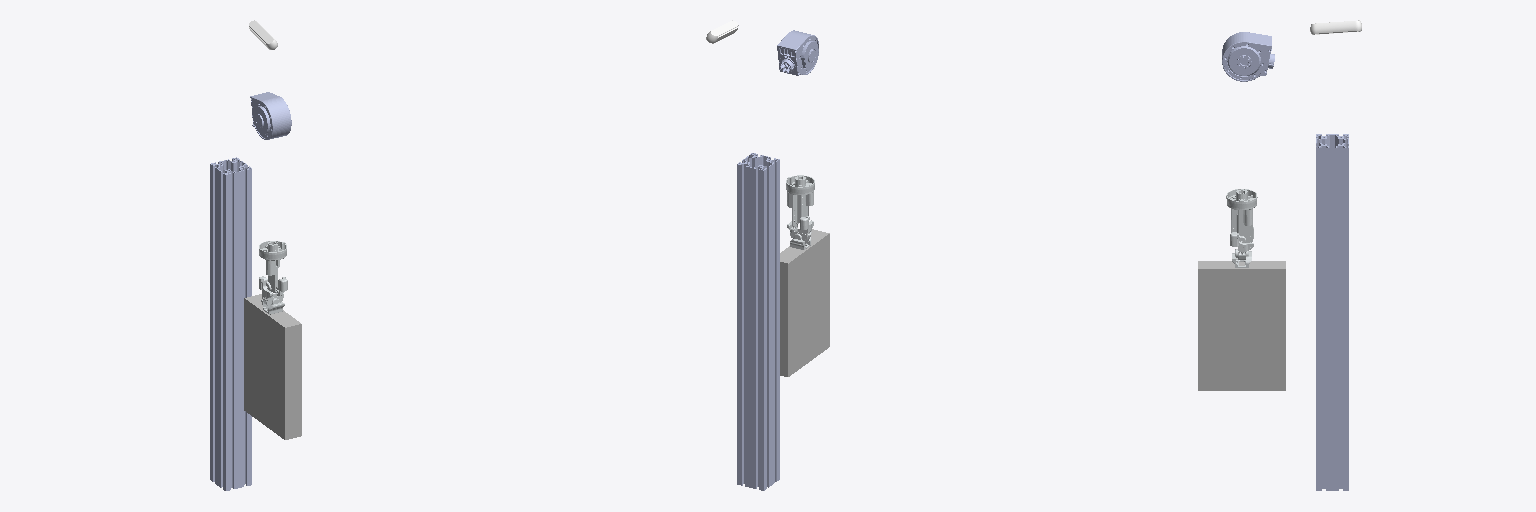
The robot description file, URDF, robot "the_bust2_right_arm":
<?xml version="1.0" encoding="utf-8"?>
<!-- This URDF was automatically created by SolidWorks to URDF Exporter! Originally created by [author] ([email redacted])
     Commit Version: 1.6.0-4-g7f85cfe  Build Version: 1.6.7995.38578
     For more information, please see http://wiki.ros.org/sw_urdf_exporter -->
<robot
  name="the_bust2_right_arm">
  <link name="world_base"/>
  <joint name="world_shift" type="fixed">
    <origin xyz="0 0 0" rpy="0 0 1.57" />
    <parent link="world_base" />
    <child link="link0" />
    <axis xyz="0 0 1" />
  </joint>
  <link
    name="link0">
    <inertial>
      <origin
        xyz="-0.080255 -0.75157 -0.00014821"
        rpy="0 0 0" />
      <mass
        value="9.7839" />
      <inertia
        ixx="0.20727"
        ixy="-3.2824E-05"
        ixz="-1.1214E-06"
        iyy="0.28988"
        iyz="-9.4868E-05"
        izz="0.29461" />
    </inertial>
    <visual>
      <origin
        xyz="0 0 0"
        rpy="0 0 0" />
      <geometry>
        <mesh
          filename="../assets/the_bust2/BODY_with_cover.obj" />
      </geometry>
      <material
        name="">
        <color
          rgba="0.79216 0.81961 0.93333 1" />
      </material>
    </visual>
    <collision>
      <origin
        xyz="0 0 0"
        rpy="0 0 0" />
      <geometry>
        <mesh
          filename="../assets/the_bust2/BODY_with_cover.obj" />
      </geometry>
    </collision>
  </link>

  <joint name="joint0_pillar" type="fixed">
    <origin xyz="0 0 0" rpy="0 0 0" />
    <parent link="link0" />
    <child link="link0_pillar" />
    <axis xyz="0 0 1" />
  </joint>
  <link
    name="link0_pillar">
    <inertial>
      <origin
        xyz="0 0 0"
        rpy="0 0 0" />
      <mass
        value="9.7839" />
      <inertia
        ixx="0.20727"
        ixy="-3.2824E-05"
        ixz="-1.1214E-06"
        iyy="0.28988"
        iyz="-9.4868E-05"
        izz="0.29461" />
    </inertial>
    <visual>
      <origin
        xyz="0 0 0"
        rpy="0 0 0" />
      <geometry>
        <mesh
          filename="../assets/the_bust2/BODY_PILLAR_with_cover.obj" />
      </geometry>
      <material
        name="">
        <color
          rgba="0.79216 0.81961 0.93333 1" />
      </material>
    </visual>
    <collision>
      <origin
        xyz="0 0 0"
        rpy="0 0 0" />
      <geometry>
        <mesh
          filename="../assets/the_bust2/BODY_PILLAR_with_cover.obj" />
      </geometry>
    </collision>
  </link>

  <link
    name="link1">
    <inertial>
      <origin
        xyz="-0.058646 0.010623 -0.0013946"
        rpy="0 0 0" />
      <mass
        value="0.90109" />
      <inertia
        ixx="0.00071734"
        ixy="-4.067E-06"
        ixz="-2.2324E-06"
        iyy="0.00071668"
        iyz="3.4643E-07"
        izz="0.00099893" />
    </inertial>
    <visual>
      <origin
        xyz="0 0 0"
        rpy="0 0 0" />
      <geometry>
        <mesh
          filename="../assets/the_bust2/SHOULDER_1_with_cover.obj" />
      </geometry>
      <material
        name="">
        <color
          rgba="0.79216 0.81961 0.93333 1" />
      </material>
    </visual>
    <collision>
      <origin
        xyz="0 0 0"
        rpy="0 0 0" />
      <geometry>
        <mesh
          filename="../assets/the_bust2/SHOULDER_1_with_cover.obj" />
      </geometry>
    </collision>
  </link>
  <joint
    name="joint1"
    type="revolute">
    <origin
      xyz="-0.14964 0 0.060725"
      rpy="1.5708 0 0" />
    <parent
      link="link0" />
    <child
      link="link1" />
    <axis
      xyz="-0.98481 0.17365 0" />
    <limit effort="87" lower="-3.142" upper="3.142" velocity="2.0"/>
  </joint>
  <link
    name="link2">
    <inertial>
      <origin
        xyz="-0.00535772591526545 -0.0793139517046481 -9.23922563859696E-06"
        rpy="0 0 0" />
      <mass
        value="0.649472174212296" />
      <inertia
        ixx="0.000372167174448577"
        ixy="-5.67559650733523E-07"
        ixz="1.11598896451532E-07"
        iyy="0.000429826310385547"
        iyz="4.2959102078216E-07"
        izz="0.000400174040241547" />
    </inertial>
    <visual>
      <origin
        xyz="0 0 0"
        rpy="0 0 0" />
      <geometry>
        <mesh
          filename="../assets/the_bust2/SHOULDER_2_with_cover.obj" />
      </geometry>
      <material
        name="">
        <color
          rgba="0.792156862745098 0.819607843137255 0.933333333333333 1" />
      </material>
    </visual>
    <collision>
      <origin
        xyz="0 0 0"
        rpy="0 0 0" />
      <geometry>
        <mesh
          filename="../assets/the_bust2/SHOULDER_2_with_cover.obj" />
      </geometry>
    </collision>
  </link>
  <joint
    name="joint2"
    type="revolute">
    <origin
      xyz="-0.060083 0.010594 0"
      rpy="0 0 0" />
    <parent
      link="link1" />
    <child
      link="link2" />
    <axis
      xyz="0 0 -1" />
    <limit effort="87" lower="-0.1" upper="3.142" velocity="2.0"/>
  </joint>
  <link
    name="link3">
    <inertial>
      <origin
        xyz="-0.000355282485146768 -0.00124933319201412 -0.0762484667452232"
        rpy="0 0 0" />
      <mass
        value="0.098196868702324" />
      <inertia
        ixx="0.000130311751597374"
        ixy="-4.63732473212988E-07"
        ixz="4.14973236884063E-07"
        iyy="0.000122852441640541"
        iyz="6.68222480742808E-06"
        izz="5.20498909664746E-05" />
    </inertial>
    <visual>
      <origin
        xyz="0 0 0"
        rpy="0 0 0" />
      <geometry>
        <mesh
          filename="../assets/the_bust2/ARM_1_with_cover.obj" />
      </geometry>
      <material
        name="">
        <color
          rgba="0.866666666666667 0.866666666666667 0.890196078431372 1" />
      </material>
    </visual>
    <collision>
      <origin
        xyz="0 0 0"
        rpy="0 0 0" />
      <geometry>
        <mesh
          filename="../assets/the_bust2/ARM_1_with_cover.obj" />
      </geometry>
    </collision>
  </link>
  <joint
    name="joint3"
    type="revolute">
    <origin
      xyz="-0.0055 -0.113 0"
      rpy="1.5708 -0.062021 3.1416" />
    <parent
      link="link2" />
    <child
      link="link3" />
    <axis
      xyz="0 0 -1" />
    <limit effort="87" lower="-3.142" upper="3.142" velocity="2.0"/>
  </joint>
  <link
    name="link4">
    <inertial>
      <origin
        xyz="0.000320113590613069 -0.0582629274686154 0.000795425891252129"
        rpy="0 0 0" />
      <mass
        value="0.0953973399101085" />
      <inertia
        ixx="6.58987096231067E-05"
        ixy="2.45738434072835E-09"
        ixz="4.68028555793376E-08"
        iyy="6.82790255692881E-05"
        iyz="-4.44343875203888E-07"
        izz="5.77673345660481E-05" />
    </inertial>
    <visual>
      <origin
        xyz="0 0 0"
        rpy="0 0 0" />
      <geometry>
        <mesh
          filename="../assets/the_bust2/ARM_2_with_cover.obj" />
      </geometry>
      <material
        name="">
        <color
          rgba="0.792156862745098 0.819607843137255 0.933333333333333 1" />
      </material>
    </visual>
    <collision>
      <origin
        xyz="0 0 0"
        rpy="0 0 0" />
      <geometry>
        <mesh
          filename="../assets/the_bust2/ARM_2_with_cover.obj" />
      </geometry>
    </collision>
  </link>
  <joint
    name="joint4"
    type="revolute">
    <origin
      xyz="0 0 -0.1465"
      rpy="1.5708 0 3.0796" />
    <parent
      link="link3" />
    <child
      link="link4" />
    <axis
      xyz="-1 0 0" />
    <limit effort="87" lower="-0.01" upper="2.0944" velocity="2.0"/>
  </joint>
  <link
    name="link5">
    <inertial>
      <origin
        xyz="0.000493375711402677 -0.000130653778922423 0.046579179371954"
        rpy="0 0 0" />
      <mass
        value="0.217814758640261" />
      <inertia
        ixx="0.00028119739542552"
        ixy="-1.32568846933065E-05"
        ixz="1.36805191466711E-06"
        iyy="0.000284643745428063"
        iyz="7.34861520892946E-07"
        izz="0.000117915595371944" />
    </inertial>
    <visual>
      <origin
        xyz="0 0 0"
        rpy="0 0 0" />
      <geometry>
        <mesh
          filename="../assets/the_bust2/FOREARM_1_with_cover.obj" />
      </geometry>
      <material
        name="">
        <color
          rgba="0.898039215686275 0.917647058823529 0.929411764705882 1" />
      </material>
    </visual>
    <collision>
      <origin
        xyz="0 0 0"
        rpy="0 0 0" />
      <geometry>
        <mesh
          filename="../assets/the_bust2/FOREARM_1_with_cover.obj" />
      </geometry>
    </collision>
  </link>
  <joint
    name="joint5"
    type="revolute">
    <origin
      xyz="0 -0.0945 0"
      rpy="1.5708 0 0" />
    <parent
      link="link4" />
    <child
      link="link5" />
    <axis
      xyz="0 0 1" />
    <limit effort="87" lower="-3.142" upper="3.142" velocity="2.0"/>
  </joint>
  <link
    name="link6">
    <inertial>
      <origin
        xyz="2.5011749909265E-06 6.98671781989973E-06 0.0108566208822707"
        rpy="0 0 0" />
      <mass
        value="0.0851084608381543" />
      <inertia
        ixx="6.52848876662652E-05"
        ixy="6.880334348113E-06"
        ixz="2.94099464720527E-09"
        iyy="4.40039650720911E-05"
        iyz="-6.6266349783088E-09"
        izz="5.02184199911762E-05" />
    </inertial>
    <visual>
      <origin
        xyz="0 0 0"
        rpy="0 0 0" />
      <geometry>
        <mesh
          filename="../assets/the_bust2/WRIST_1_with_cover.obj" />
      </geometry>
      <material
        name="">
        <color
          rgba="0.898039215686275 0.917647058823529 0.929411764705882 1" />
      </material>
    </visual>
    <collision>
      <origin
        xyz="0 0 0"
        rpy="0 0 0" />
      <geometry>
        <mesh
          filename="../assets/the_bust2/WRIST_1_with_cover.obj" />
      </geometry>
    </collision>
  </link>
  <joint
    name="joint6"
    type="revolute">
    <origin
      xyz="0 0 0.122"
      rpy="0 0 3.1416" />
    <parent
      link="link5" />
    <child
      link="link6" />
    <axis
      xyz="0 1 0" />
    <limit effort="87" lower="-1.57" upper="1.57" velocity="2.0"/>
  </joint>
  <link
    name="link7">
    <inertial>
      <origin
        xyz="1.73301732420139E-06 -4.1365530679765E-05 0.0148102063345591"
        rpy="0 0 0" />
      <mass
        value="0.0428723129385903" />
      <inertia
        ixx="9.75704695559401E-06"
        ixy="7.63671624727678E-07"
        ixz="1.15801307311595E-09"
        iyy="1.5033546521057E-05"
        iyz="2.53058408504609E-08"
        izz="1.75356539058599E-05" />
    </inertial>
    <visual>
      <origin
        xyz="0 0 0"
        rpy="0 0 0" />
      <geometry>
        <mesh
          filename="../assets/the_bust2/WRIST_2_with_cover.obj" />
      </geometry>
      <material
        name="">
        <color
          rgba="0.898039215686275 0.917647058823529 0.929411764705882 1" />
      </material>
    </visual>
    <collision>
      <origin
        xyz="0 0 0"
        rpy="0 0 0" />
      <geometry>
        <mesh
          filename="../assets/the_bust2/WRIST_2_with_cover.obj" />
      </geometry>
    </collision>
  </link>
  <joint
    name="joint7"
    type="revolute">
    <origin
      xyz="0 0 0.04"
      rpy="0 0 3.1416" />
    <parent
      link="link6" />
    <child
      link="link7" />
    <axis
      xyz="-1 0 0" />
    <limit effort="87" lower="-1.57" upper="1.57" velocity="2.0"/>
  </joint>

  <!-- hand mount -->
  <joint
    name="hand_mount_joint"
    type="fixed">
    <origin
      xyz="0 0 0.03"
      rpy="0 0 0" />
    <parent
      link="link7" />
    <child
      link="hand_mount_link" />
    <axis
      xyz="1 0 0" />
  </joint>
  <link name="hand_mount_link"/>

  <!-- camera -->
  <joint name="camera_joint" type="fixed">
    <parent link="link0"/>
    <child link="camera_rgb"/>
    <origin rpy="-2.667044 0.097502 3.099910" xyz="-0.001564 -0.105504 0.182075"/>
  </joint>
  <link name="camera_rgb"/>

  <joint name="rgb_to_center" type="fixed">
    <parent link="camera_rgb" />
    <child link="camera_center" />
    <origin xyz="-0.0115 0 0" rpy="0 0 0" />
  </joint>
  <link name="camera_center" />

  <joint name="camera_center_to_mesh" type ="fixed">
    <parent link="camera_center" />
    <child link="camer_mesh" />
    <origin xyz="0 0 0" rpy="0 0 3.141592" />
  </joint>
  <link
      name="camer_mesh">
      <visual>
      <origin
          xyz="0 0 0"
          rpy="0 0 0" />
      <geometry>
          <mesh
          filename="../assets/object/collision/d455.obj" scale="0.001 0.001 0.001"/>
      </geometry>
      <material
          name="">
          <color
          rgba="1 1 1 1" />
      </material>
      </visual>
      <collision>
      <origin
          xyz="0 0 0"
          rpy="0 0 0" />
      <geometry>
          <mesh
          filename="../assets/object/collision/d455.obj"  scale="0.001 0.001 0.001"/>
      </geometry>
      </collision>
  </link>

  <!-- calibrator panel -->
  <joint
    name="panel_joint"
    type="fixed">
    <origin
      xyz="0 0 0.16"
      rpy="0 0 0" />
    <parent
      link="hand_mount_link" />
    <child
      link="panel" />
    <axis
      xyz="1 0 0" />
  </joint>
  <link name="panel">
    <visual>
      <origin
        xyz="0 0 0"
        rpy="0 0 0" />
      <geometry>
        <box size="0.21 0.05 0.32"/>
      </geometry>
      <material
        name="">
        <color
          rgba="0.8 0.8 0.8 1.0" />
      </material>
    </visual>
    <collision>
      <origin
        xyz="0 0 0"
        rpy="0 0 0" />
      <geometry>
        <box size="0.21 0.05 0.32"/>
      </geometry>
    </collision>
  </link>
</robot>

--- Render facts (derived) ---
Views: 3 orthographic renders of the robot side by side, from view 1: azimuth 30°, elevation 25°; view 2: azimuth 150°, elevation 25°; view 3: azimuth 270°, elevation 25°.
Model the_bust2_right_arm with 15 links and 14 joints (7 revolute, 7 fixed), rooted at world_base, posed every joint at zero.
Visible links, largest first — view 1: link0_pillar, panel, link1, link5; view 2: link0_pillar, panel, link1, link5; view 3: link0_pillar, panel, link1, link5, camer_mesh.
Boxes of the visible links, <box> form: link0_pillar: <box>210,157,251,490</box>; panel: <box>244,294,301,439</box>; link1: <box>250,92,291,139</box>; link5: <box>259,241,286,292</box>; link0_pillar: <box>737,153,779,490</box>; panel: <box>780,229,829,376</box>; link1: <box>777,30,818,75</box>; link5: <box>786,175,814,227</box>; link0_pillar: <box>1316,134,1348,490</box>; panel: <box>1198,261,1285,390</box>; link1: <box>1222,32,1274,81</box>; link5: <box>1226,189,1257,242</box>; camer_mesh: <box>1310,20,1361,34</box>.
Bounding box of the posed robot: 0.158 × 0.391 × 1.27 m (x, y, z).
6 mesh visuals loaded from 10 distinct referenced files (6 OBJ); not drawn: 4 (reference not matched to a file when rendering).